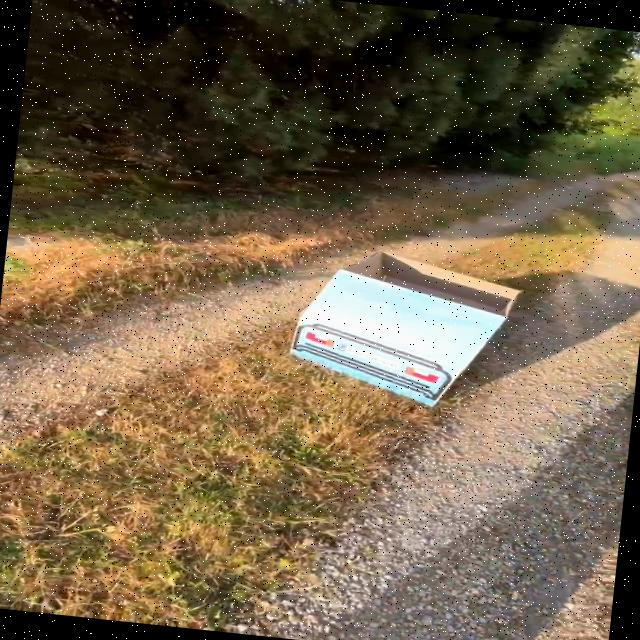blue_car: (243, 224, 580, 437)
